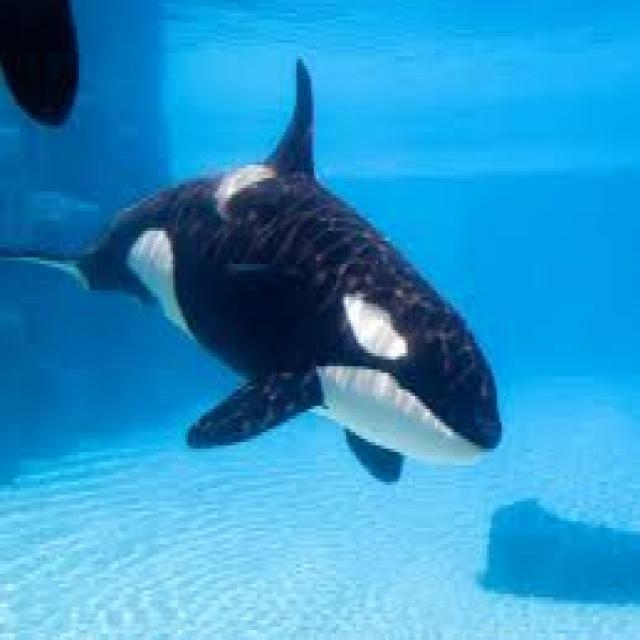blue_whale: (7, 70, 519, 488)
